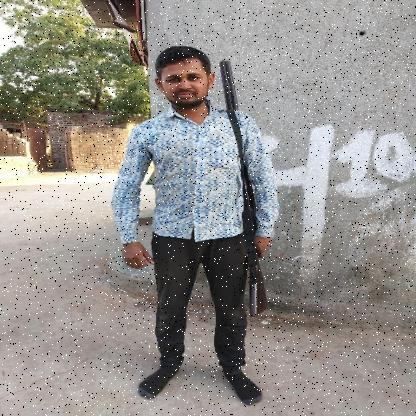rifle: (216, 58, 270, 320)
